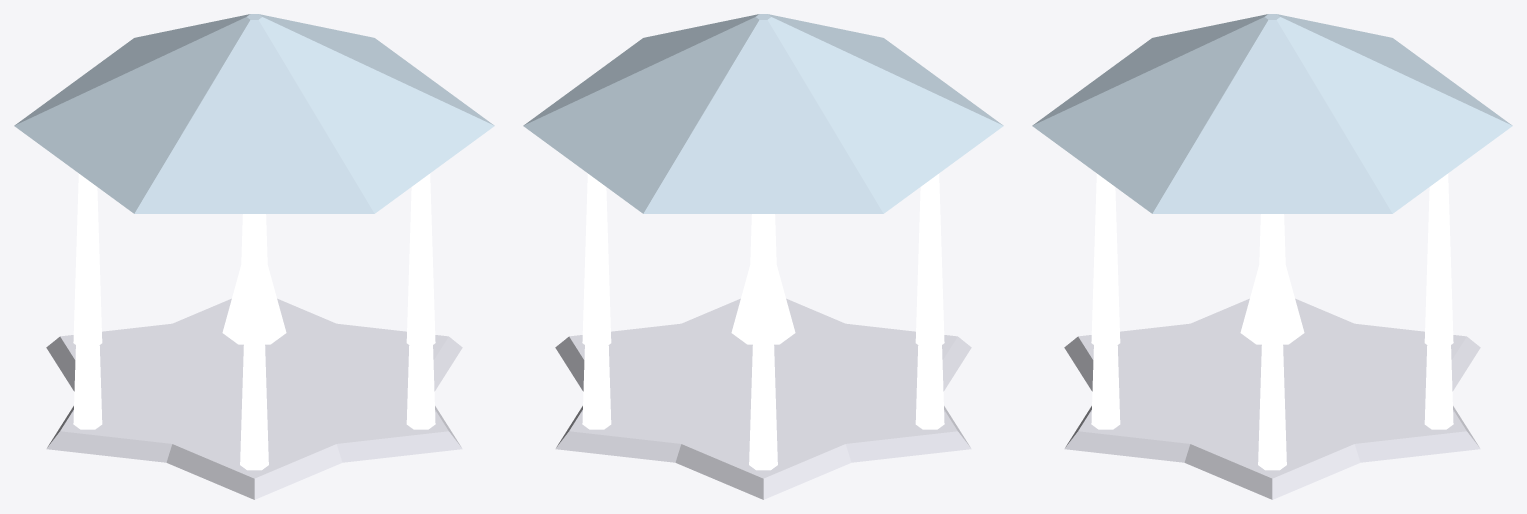
The model's file is CrystalHall.fbx.
3 views of the same model, side by side, from view 1: azimuth 30°, elevation 25°; view 2: azimuth 150°, elevation 25°; view 3: azimuth 270°, elevation 25° (orthographic).
Visible parts, largest first — view 1: CrystalHall; view 2: CrystalHall; view 3: CrystalHall.
Boxes of the visible parts, x1,y1,x2,y2 form: CrystalHall: [14, 14, 494, 499]; CrystalHall: [523, 14, 1003, 499]; CrystalHall: [1032, 14, 1512, 499].
Bounding box in the file's own units: 6 × 5.25 × 6.
